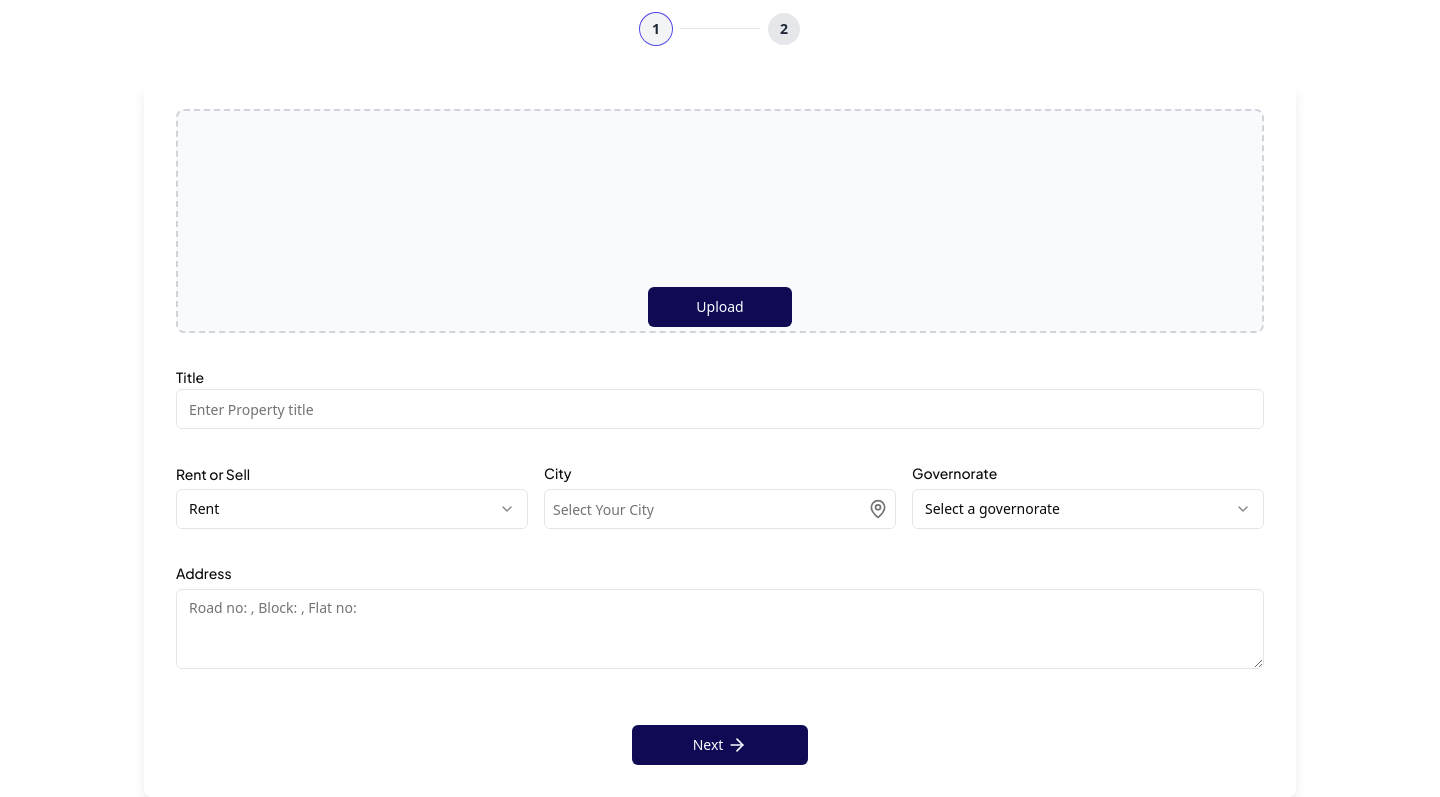
Test case: AddProperty section › displays error messages when clicking 'Next' without entering values
(page scrolled)
# Simulate clicking the "Next" button
Click the button "Next": (720, 745) 632,725 -> 808,765
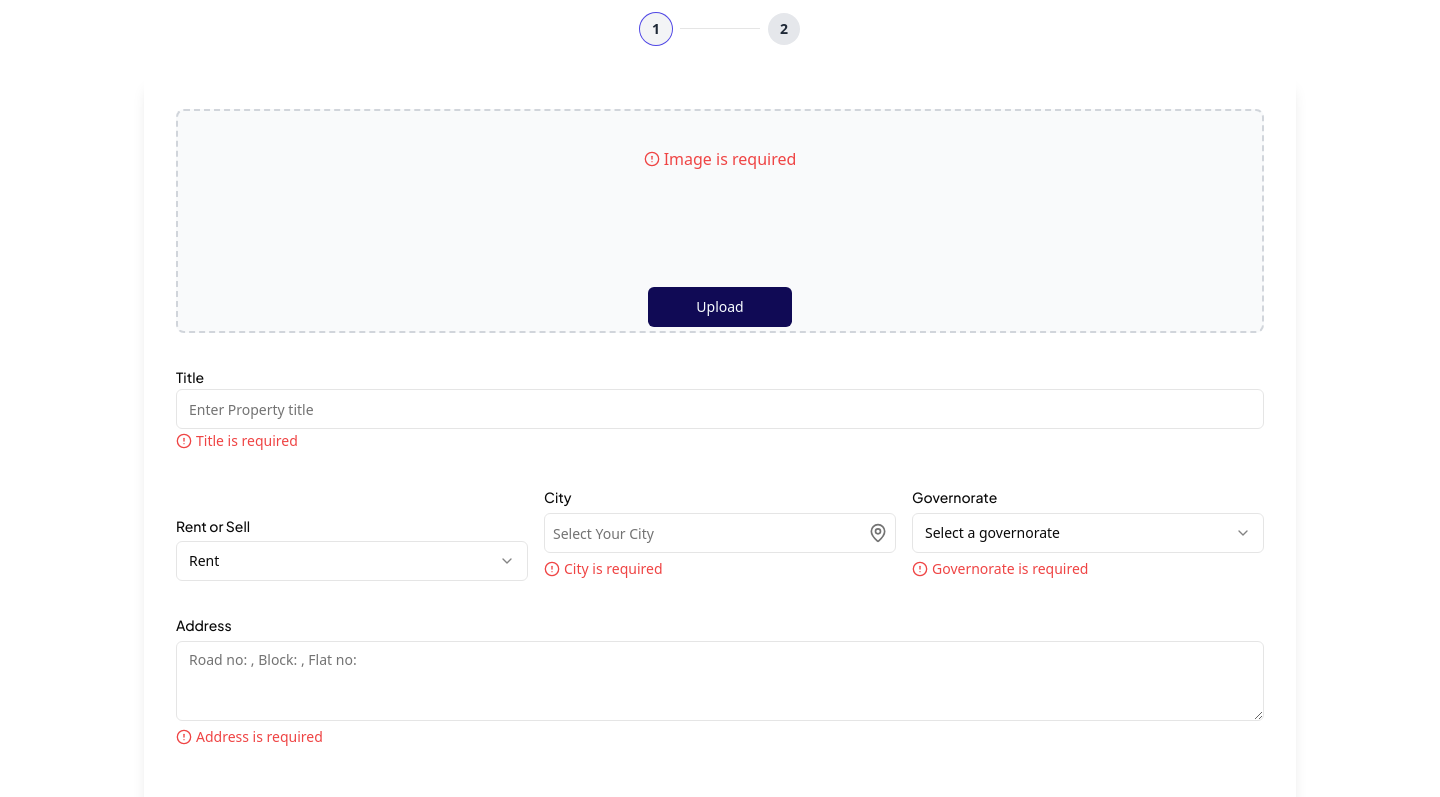
expect the text "Image is required" is shown: met, box 644,148 -> 796,170
expect the text "Title is required" is shown: met, box 176,431 -> 298,450
expect the text "City is required" is shown: met, box 544,559 -> 662,578
